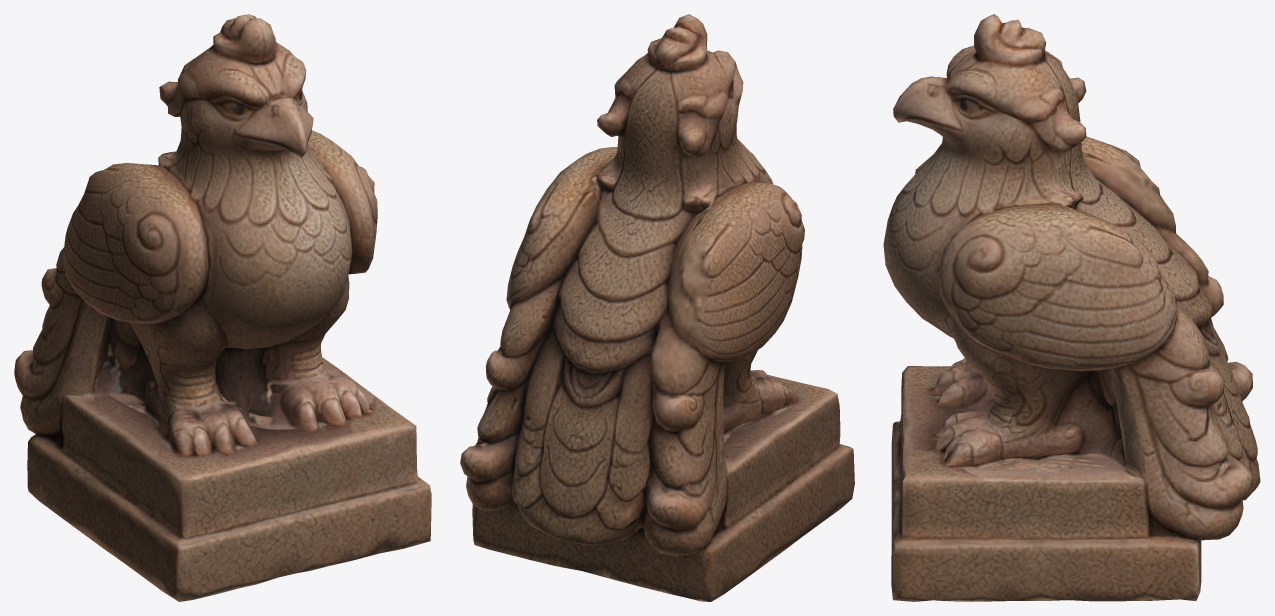
The model's file is 경복궁_석상_주작.glb.
The picture shows the model from 3 angles, left to right: view 1: azimuth 30°, elevation 25°; view 2: azimuth 150°, elevation 25°; view 3: azimuth 270°, elevation 25°; orthographic projection. The views are drawn at different scales.
Parts seen in each view (by area): view 1: texture_mapping; view 2: texture_mapping; view 3: texture_mapping.
Part boxes in pixels (x1,y1,x2,y2): texture_mapping: [14, 14, 431, 601]; texture_mapping: [460, 14, 854, 601]; texture_mapping: [883, 14, 1260, 601].
Size of the model in its own units: 0.5183 by 1 by 0.6534.
Materials: 1 (1 with a texture image).
